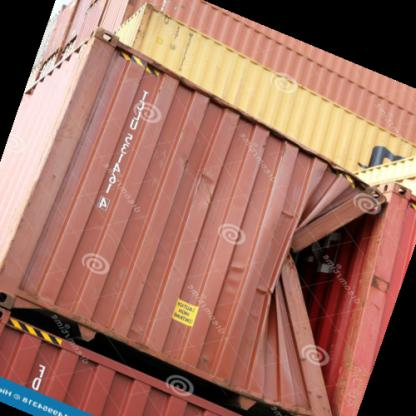Damage: (259, 208, 389, 376)
